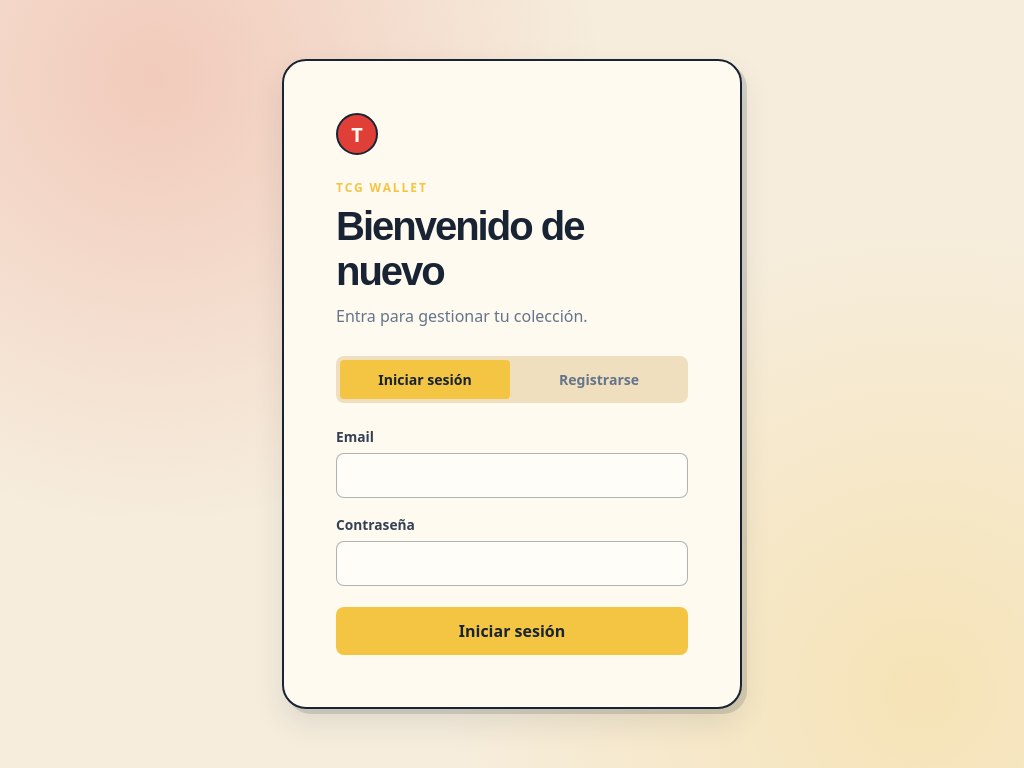
AuthForm › muestra errores de validación antes de enviar credenciales inválidas
The width and height of the screenshot is (1024, 768).
Click the button "Iniciar sesión". click: {"x": 512, "y": 631}
box: 336,607 -> 688,655
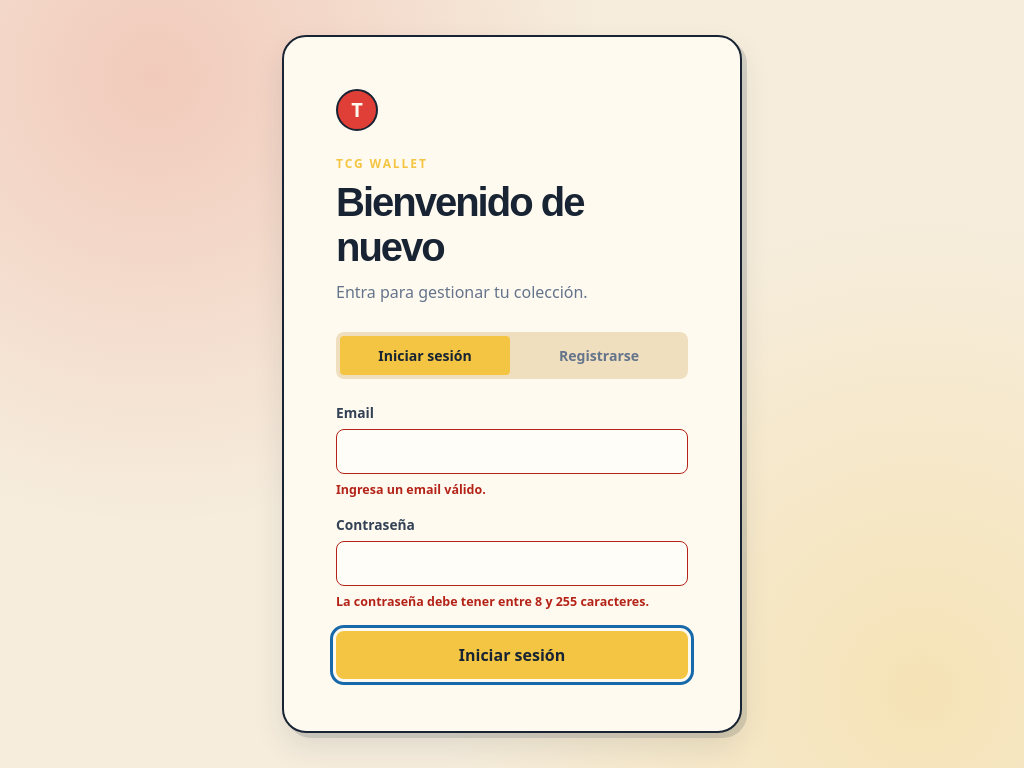
Expected: the text "Ingresa un email válido." is shown, 336,480 -> 486,498
Expected: the text "La contraseña debe tener entre 8 y 255 caracteres." is shown, 336,593 -> 688,610
